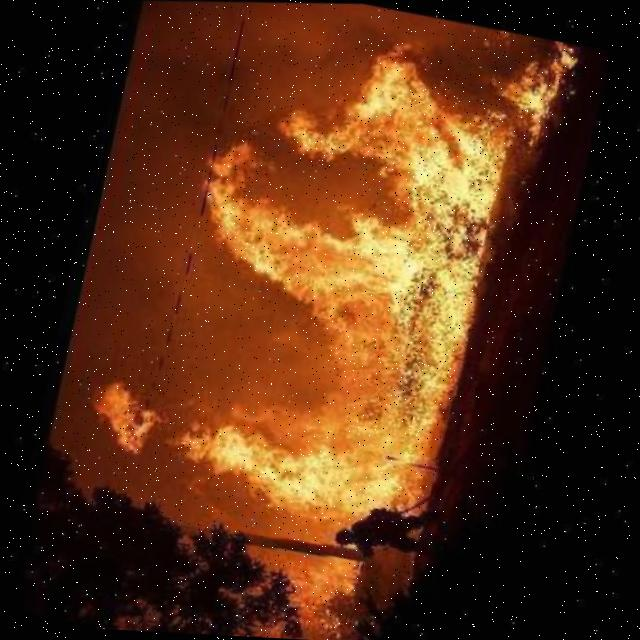fire: (200, 52, 512, 335), (88, 318, 452, 510)
